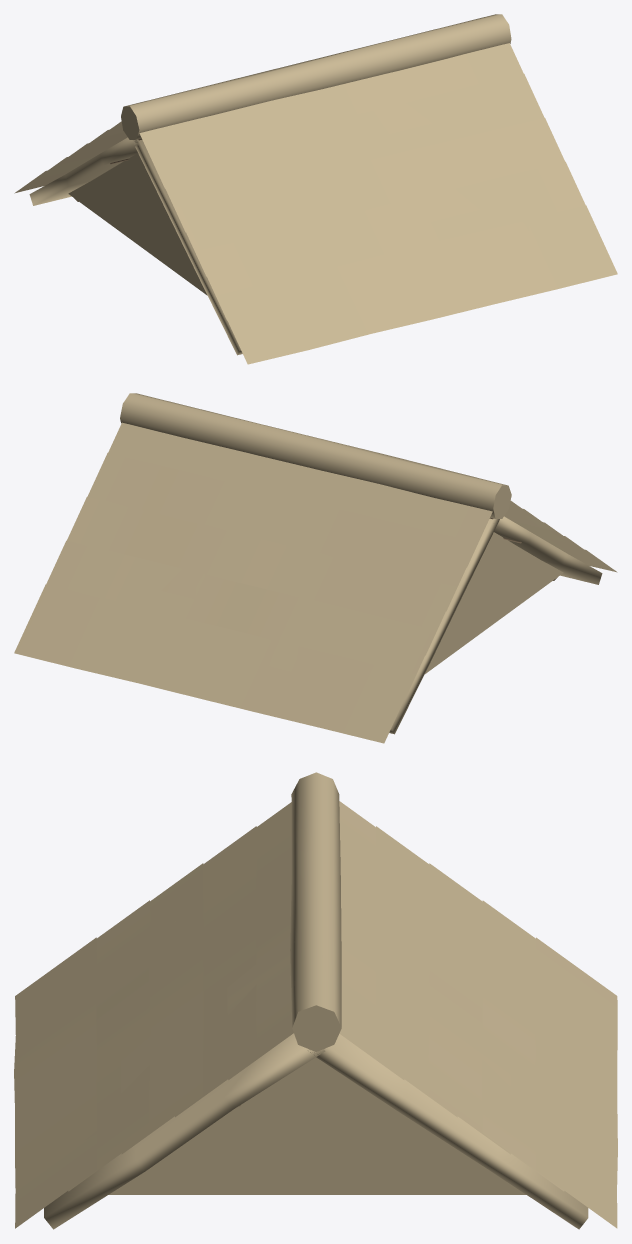
The model's file is BLD_Roof.fbx.
The picture shows the model from 3 angles, top to bottom: view 1: azimuth 30°, elevation 25°; view 2: azimuth 150°, elevation 25°; view 3: azimuth 270°, elevation 25°; orthographic projection. The views are drawn at different scales.
Parts seen in each view (by area): view 1: Roof_LOD0; view 2: Roof_LOD0; view 3: Roof_LOD0.
Part boxes in pixels (<box>): Roof_LOD0: <box>14,14,617,364</box>; Roof_LOD0: <box>14,393,617,743</box>; Roof_LOD0: <box>14,772,617,1229</box>.
Size of what is drawn, in the model's own units: 3.46 by 1.63 by 3.77.
